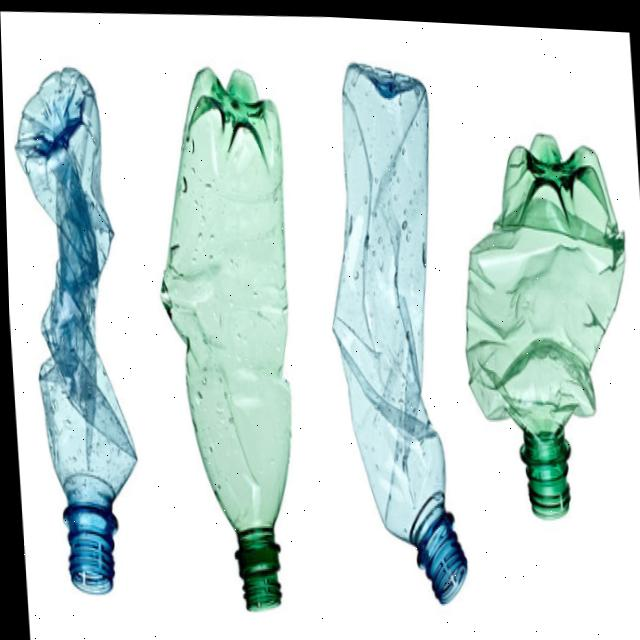Dry: (145, 60, 309, 617), (313, 54, 467, 604), (449, 120, 640, 520)
Wet: (9, 59, 144, 600)
